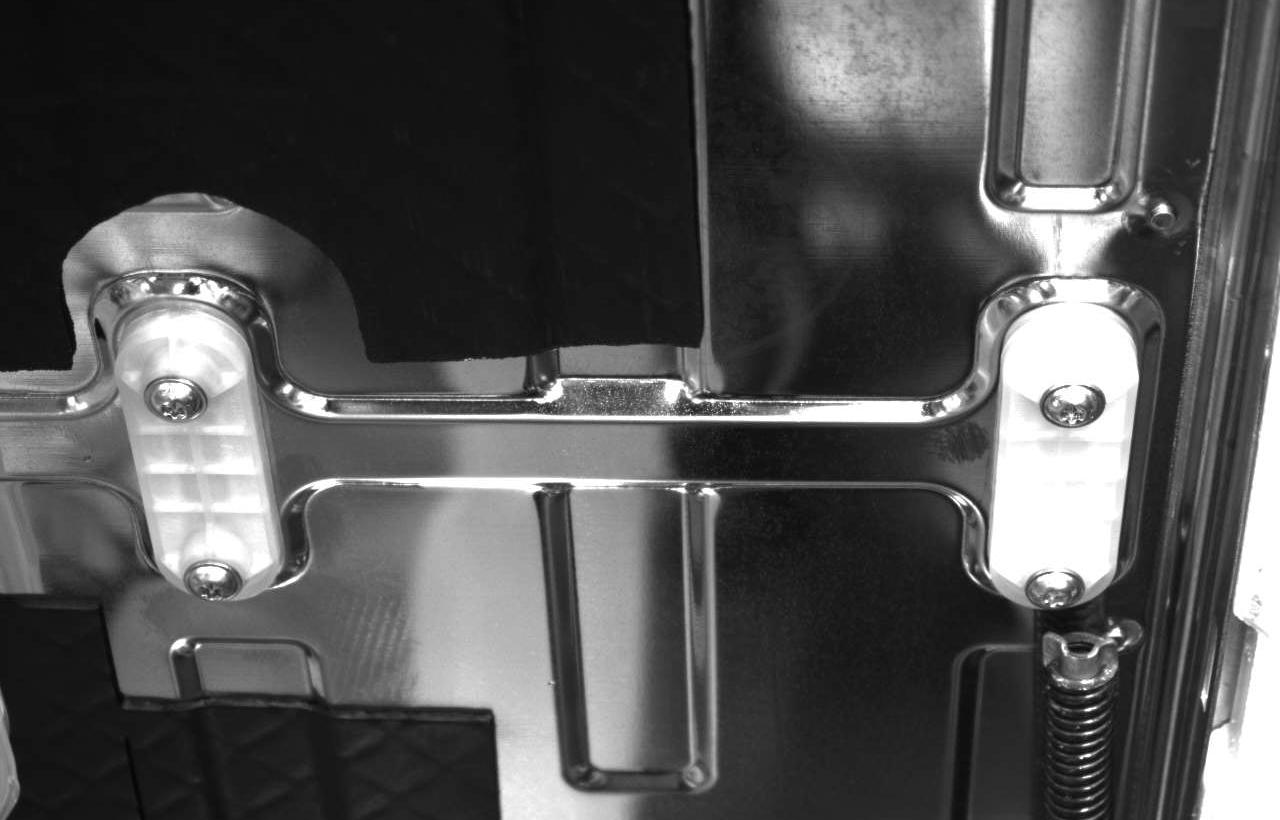vida-ok: (144, 371, 216, 438), (1040, 374, 1107, 441), (183, 545, 249, 604), (1024, 555, 1090, 614)
